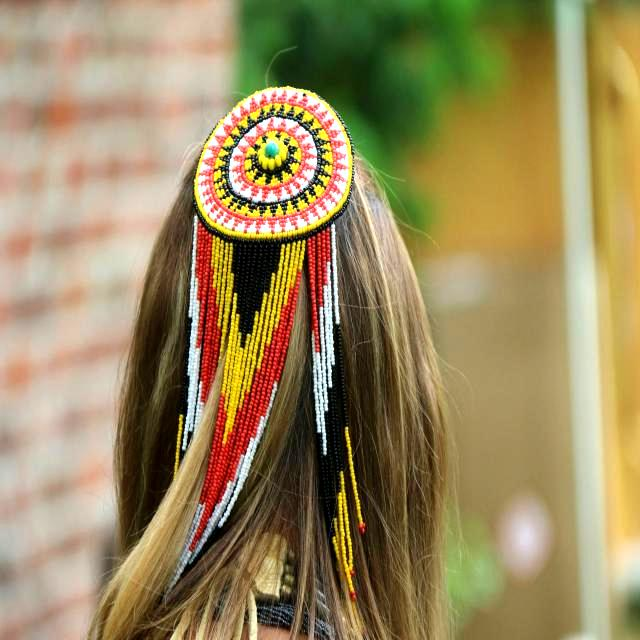no_hard_hat: (167, 88, 355, 589)
person: (89, 88, 446, 640)
